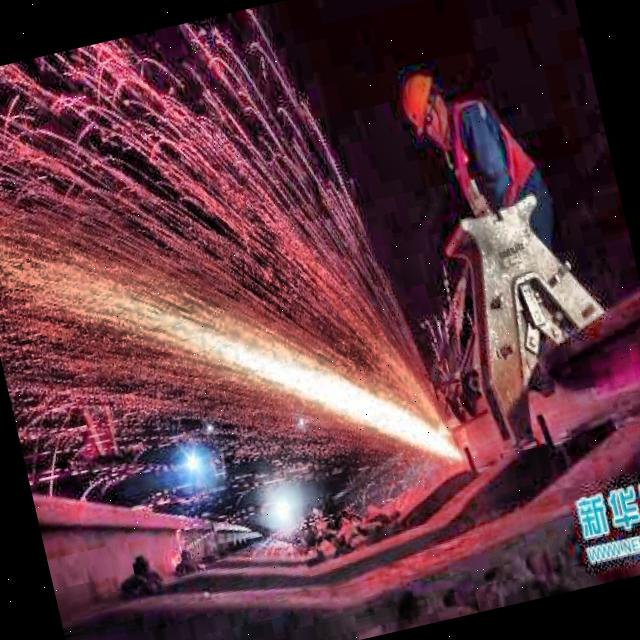helmet: (391, 64, 460, 149)
